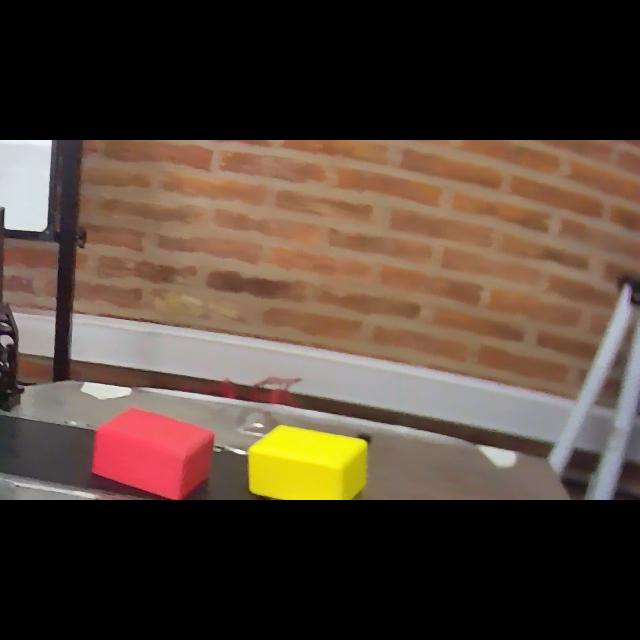greenBox: (0, 369, 2, 453)
redBox: (88, 402, 216, 500)
yellowBox: (244, 416, 370, 500)
